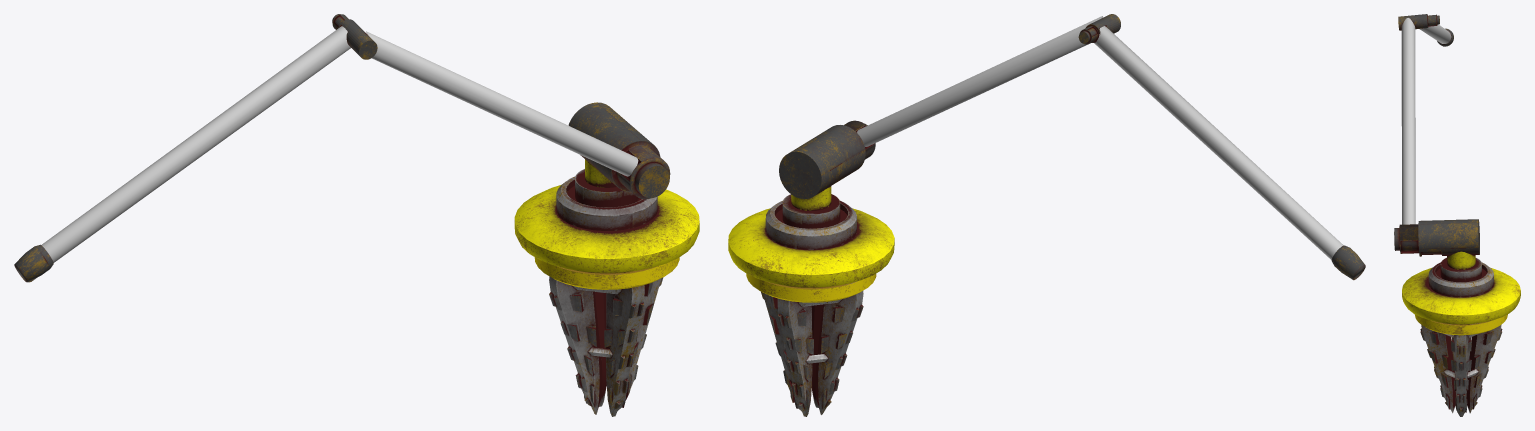
File: BoorFF.fbx
The picture shows the model from 3 angles, left to right: view 1: azimuth 30°, elevation 25°; view 2: azimuth 150°, elevation 25°; view 3: azimuth 270°, elevation 25°; orthographic projection. The views are drawn at different scales.
Visible parts, largest first — view 1: Cylinder, Cube, Circle.047, Circle.052, Circle.053, Cylinder.001, Circle.051, Circle.001; view 2: Cylinder, Cube, Circle.047, Circle.052, Circle.053, Cylinder.001, Circle.001, Circle.051; view 3: Cylinder, Cube, Circle.052, Circle.053, Cylinder.001, Circle.051, Circle.047.
Part boxes in pixels (x1=…): Cylinder: x1=514, y1=159, x2=699, y2=272; Cube: x1=549, y1=276, x2=663, y2=416; Circle.047: x1=41, y1=26, x2=350, y2=262; Circle.052: x1=366, y1=31, x2=638, y2=176; Circle.053: x1=568, y1=102, x2=670, y2=199; Cylinder.001: x1=534, y1=257, x2=679, y2=289; Circle.051: x1=332, y1=14, x2=377, y2=59; Circle.001: x1=14, y1=244, x2=53, y2=282; Cylinder: x1=728, y1=186, x2=894, y2=287; Cube: x1=761, y1=291, x2=863, y2=416; Circle.047: x1=1094, y1=26, x2=1343, y2=259; Circle.052: x1=857, y1=16, x2=1102, y2=146; Circle.053: x1=779, y1=120, x2=875, y2=199; Cylinder.001: x1=746, y1=273, x2=876, y2=302; Circle.001: x1=1331, y1=245, x2=1365, y2=280; Circle.051: x1=1078, y1=14, x2=1120, y2=44; Cylinder: x1=1402, y1=251, x2=1520, y2=324; Cube: x1=1420, y1=324, x2=1502, y2=416; Circle.052: x1=1401, y1=18, x2=1415, y2=224; Circle.053: x1=1394, y1=219, x2=1479, y2=256; Cylinder.001: x1=1414, y1=314, x2=1507, y2=335; Circle.051: x1=1398, y1=14, x2=1439, y2=30; Circle.047: x1=1419, y1=24, x2=1451, y2=43.
Bounding box in the file's own units: 1157 × 780 × 290.
